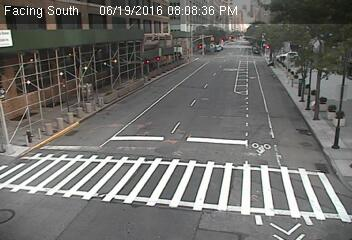neg: (24, 122, 44, 148), (47, 149, 67, 175), (81, 159, 101, 185), (203, 181, 222, 207), (202, 108, 220, 132), (90, 37, 108, 61), (250, 138, 267, 161), (294, 84, 311, 107), (247, 64, 263, 86), (162, 157, 178, 179), (270, 36, 286, 57), (244, 186, 260, 206), (143, 70, 158, 90), (220, 29, 235, 49), (96, 85, 110, 104), (312, 47, 326, 66), (143, 31, 157, 50), (51, 64, 65, 83), (131, 134, 144, 151), (321, 112, 334, 129), (203, 64, 215, 80), (54, 196, 65, 211), (71, 112, 81, 126)
